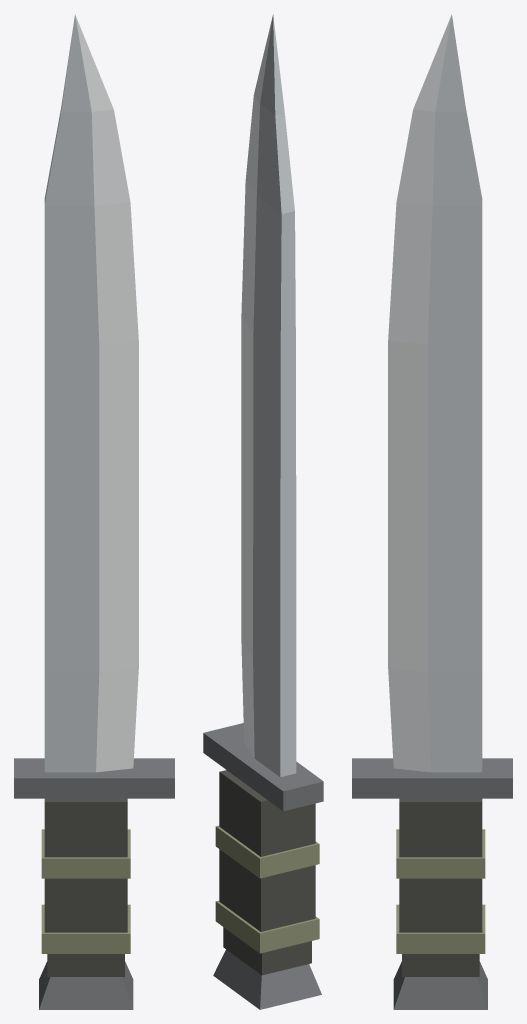
File: SM_FP_CombatKnife.glb
The picture shows the model from 3 angles, left to right: view 1: azimuth 90°, elevation 25°; view 2: azimuth 210°, elevation 25°; view 3: azimuth 270°, elevation 25°; orthographic projection.
Visible parts, largest first — view 1: SM_FP_CombatKnife; view 2: SM_FP_CombatKnife; view 3: SM_FP_CombatKnife.
Part boxes in pixels (left/top/right/bottom): SM_FP_CombatKnife: left=14, top=14, right=174, bottom=1009; SM_FP_CombatKnife: left=203, top=14, right=323, bottom=1009; SM_FP_CombatKnife: left=352, top=14, right=512, bottom=1009.
Bounding box in the file's own units: 0.026 × 0.39 × 0.058.
